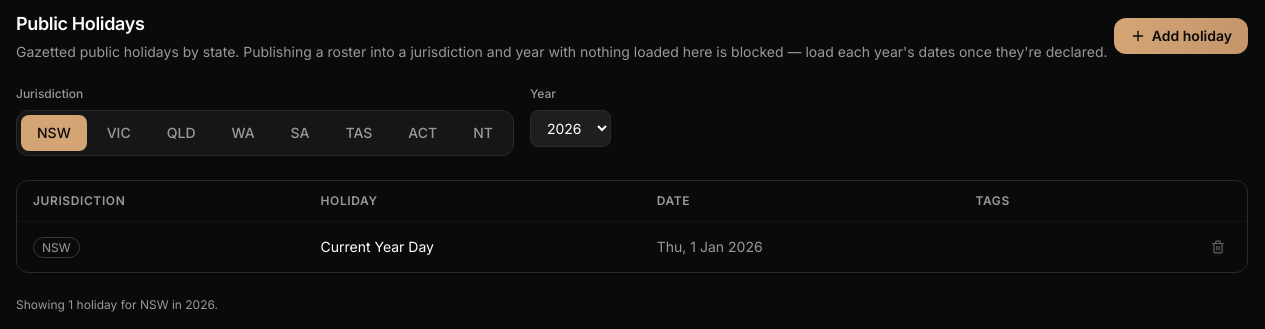
PublicHolidaysTab › REGRESSION: re-syncs the Year select after deleting the last holiday for the active year
The width and height of the screenshot is (1265, 329).
Select "2099" in the dropdown labelled "Year" at (570, 128), box 530,110 -> 611,147
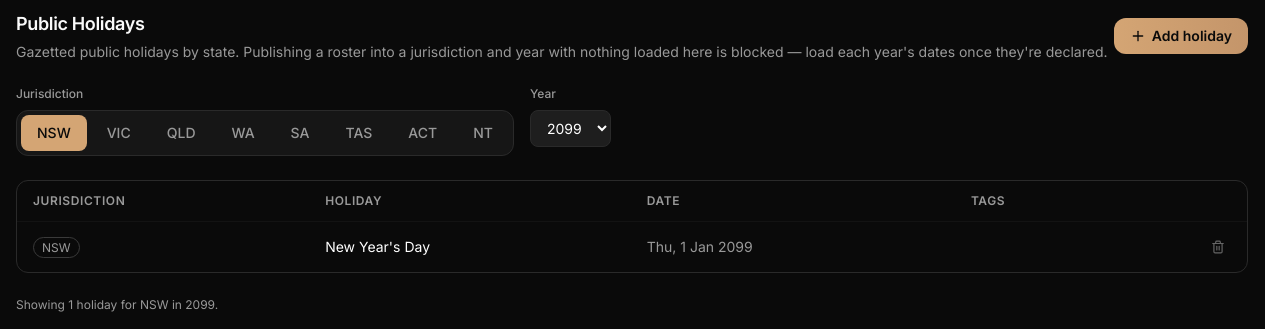
Check: the text "New Year's Day" is shown, box 309,222 -> 631,272
Click the button named "remove new year's day" at (1218, 247), box 1205,234 -> 1231,260
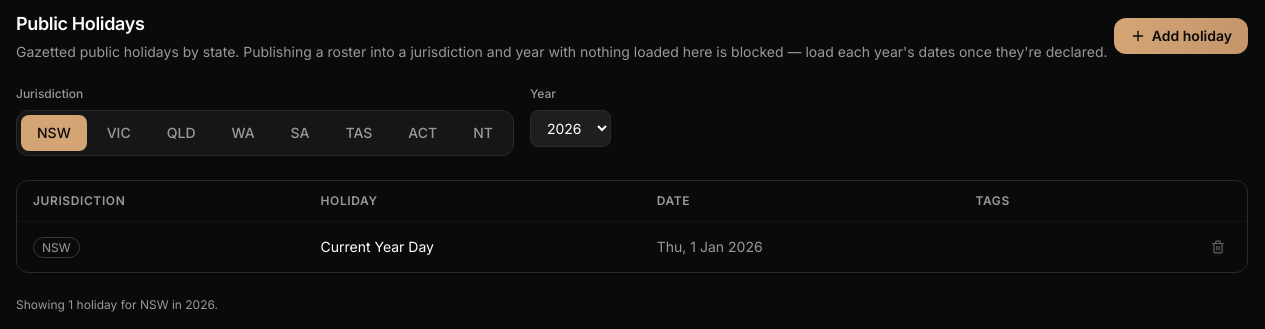
Check: the text "New Year's Day" is gone
Check: the text "Current Year Day" is shown, box 304,222 -> 641,272
